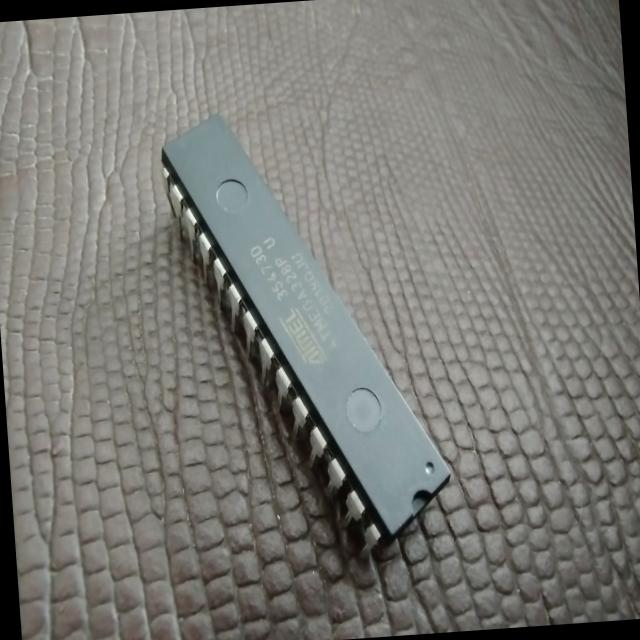atmega: (154, 96, 458, 570)
